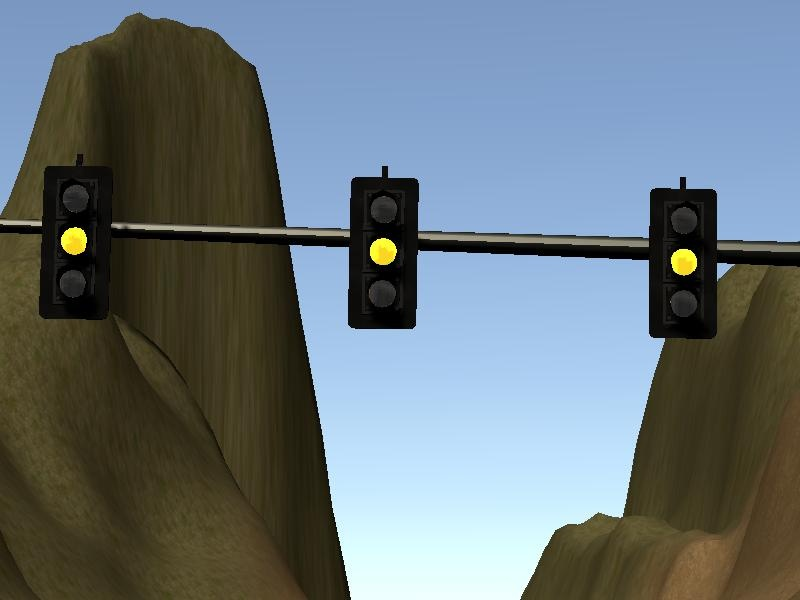yellow: (42, 165, 110, 320), (349, 176, 416, 330), (651, 189, 717, 338)
